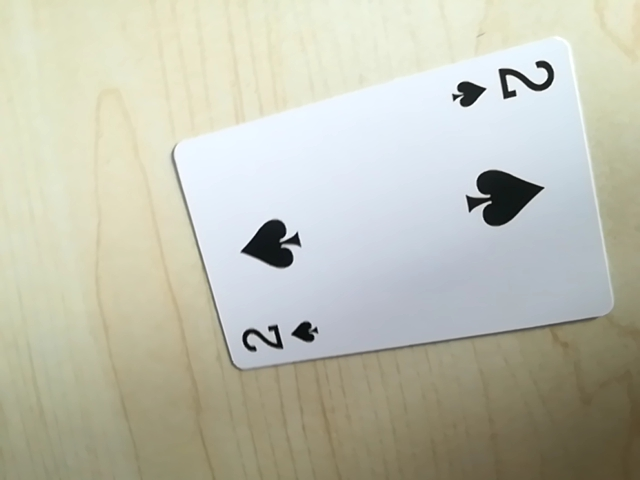ht 2: (444, 53, 564, 115), (235, 314, 324, 365)
